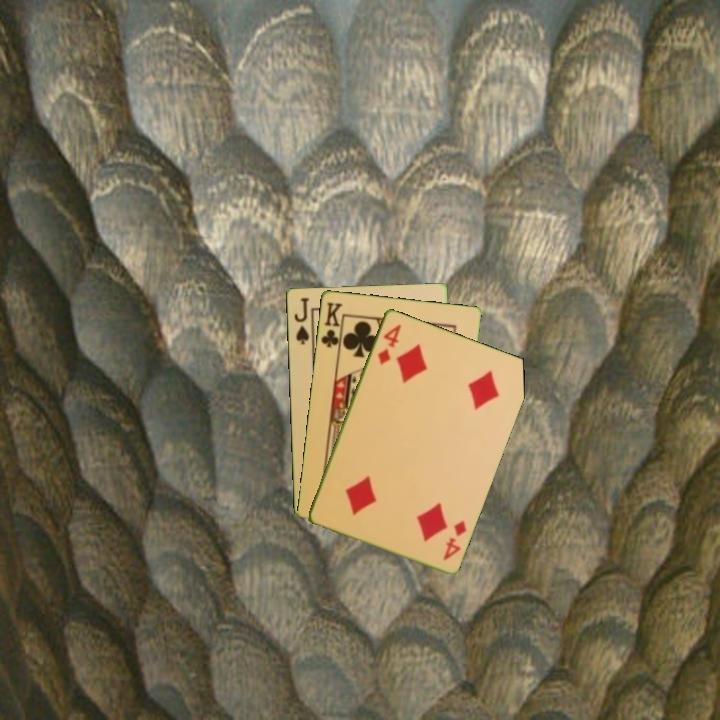4d: (373, 320, 404, 367), (439, 516, 469, 563)
Js: (290, 294, 311, 347)
Kc: (317, 298, 345, 354)
